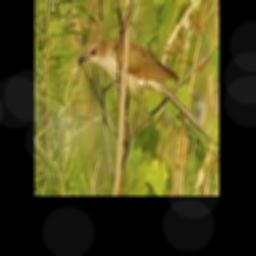Cuckoo: (78, 38, 213, 143)
